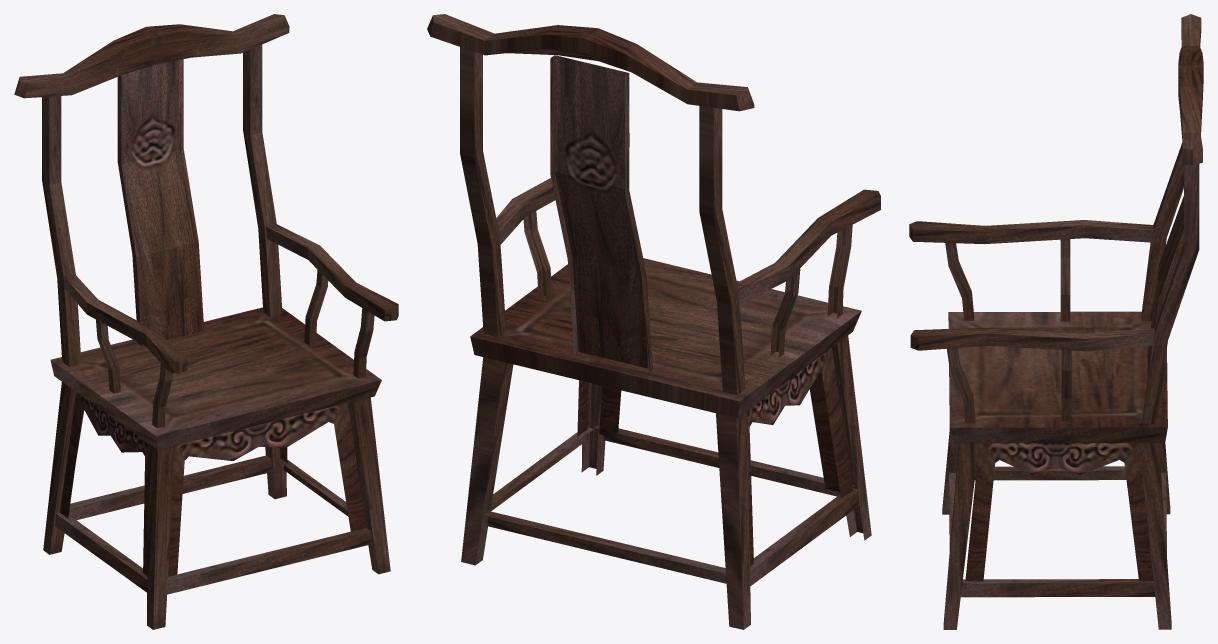
The model's file is Chair_1.FBX.
The picture shows the model from 3 angles, left to right: view 1: azimuth 30°, elevation 25°; view 2: azimuth 150°, elevation 25°; view 3: azimuth 270°, elevation 25°; orthographic projection. The views are drawn at different scales.
Parts seen in each view (by area): view 1: Chair_1; view 2: Chair_1; view 3: Chair_1.
Boxes of the visible parts, x1,y1,x2,y2 form: Chair_1: (14,14,398,629); Chair_1: (427,14,880,629); Chair_1: (909,14,1203,629).
Bounding box in the file's own units: 40.91 × 68.4 × 36.19.
